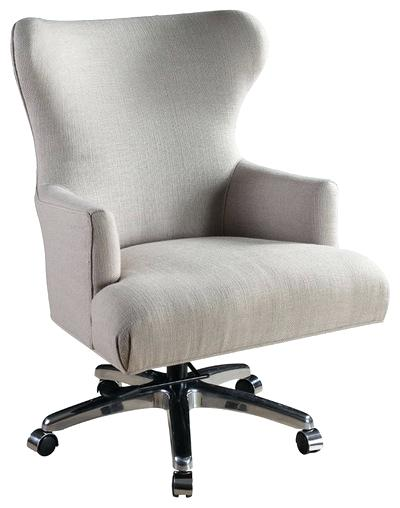chairs: (9, 11, 393, 499)
